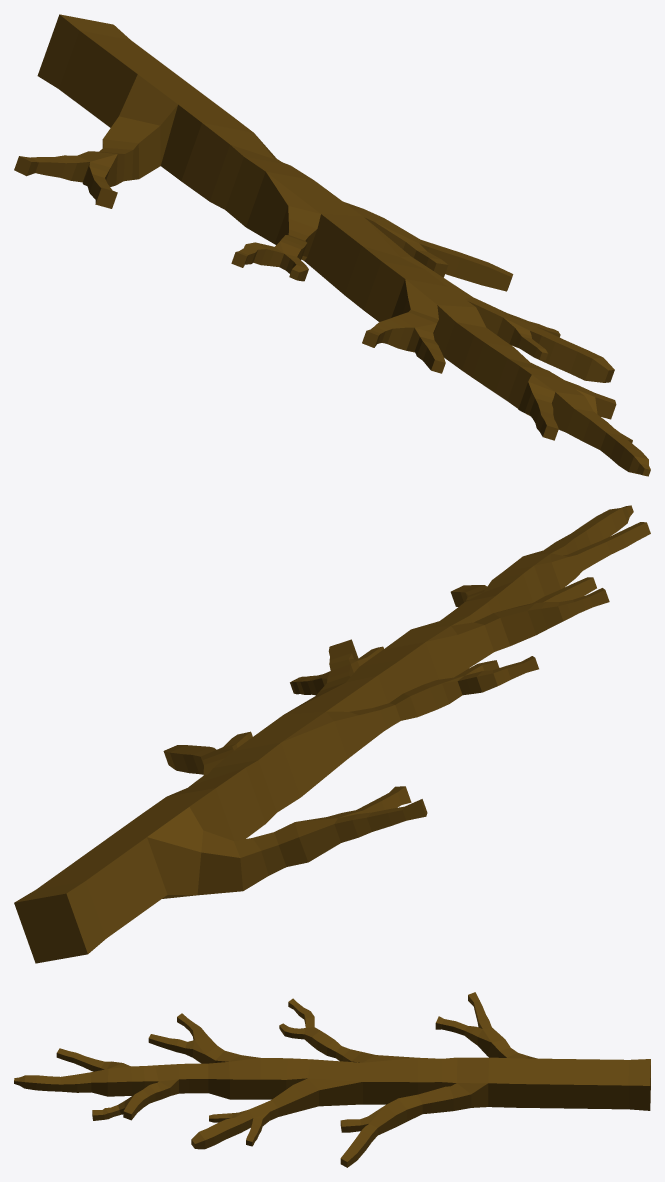
The model's file is troncocaido.fbx.
3 renders of one model, top to bottom at view 1: azimuth 30°, elevation 25°; view 2: azimuth 150°, elevation 25°; view 3: azimuth 270°, elevation 25°, orthographic. The views are drawn at different scales.
Visible parts, largest first — view 1: Plano; view 2: Plano; view 3: Plano.
Part boxes in pixels (x1=…): Plano: x1=14, y1=14, x2=650, y2=476; Plano: x1=14, y1=505, x2=650, y2=963; Plano: x1=14, y1=992, x2=650, y2=1167.
Size of the model in its own units: 174 by 65.6 by 455.
